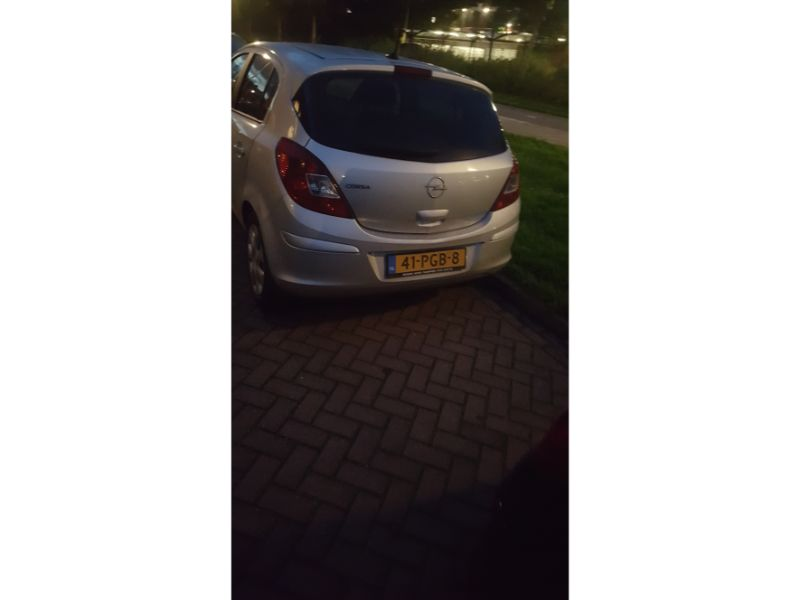kenteken: (382, 243, 473, 278)
